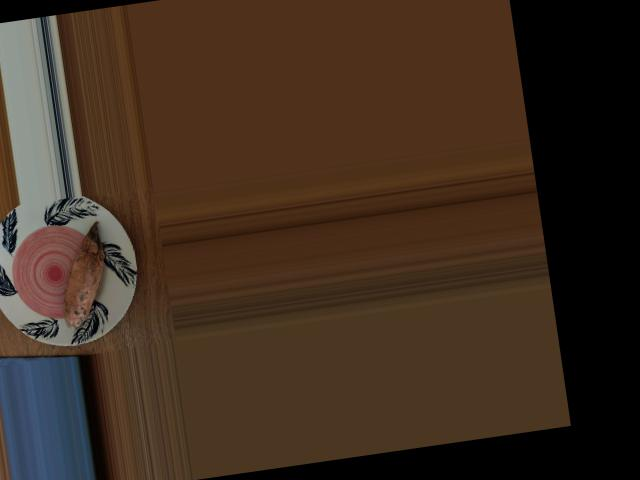sweet_potato: (50, 231, 113, 323)
